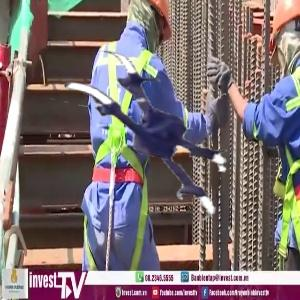drone: (45, 48, 238, 241)
